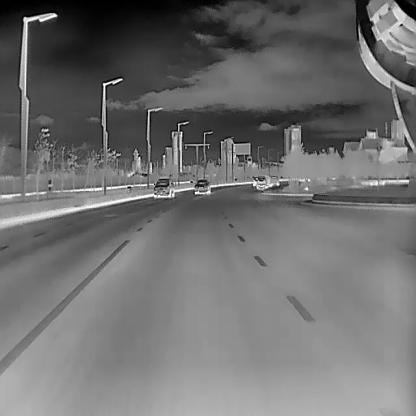car: (153, 176, 174, 197), (192, 178, 210, 194), (256, 175, 267, 189), (262, 174, 273, 188), (271, 174, 279, 187), (253, 176, 260, 186)
